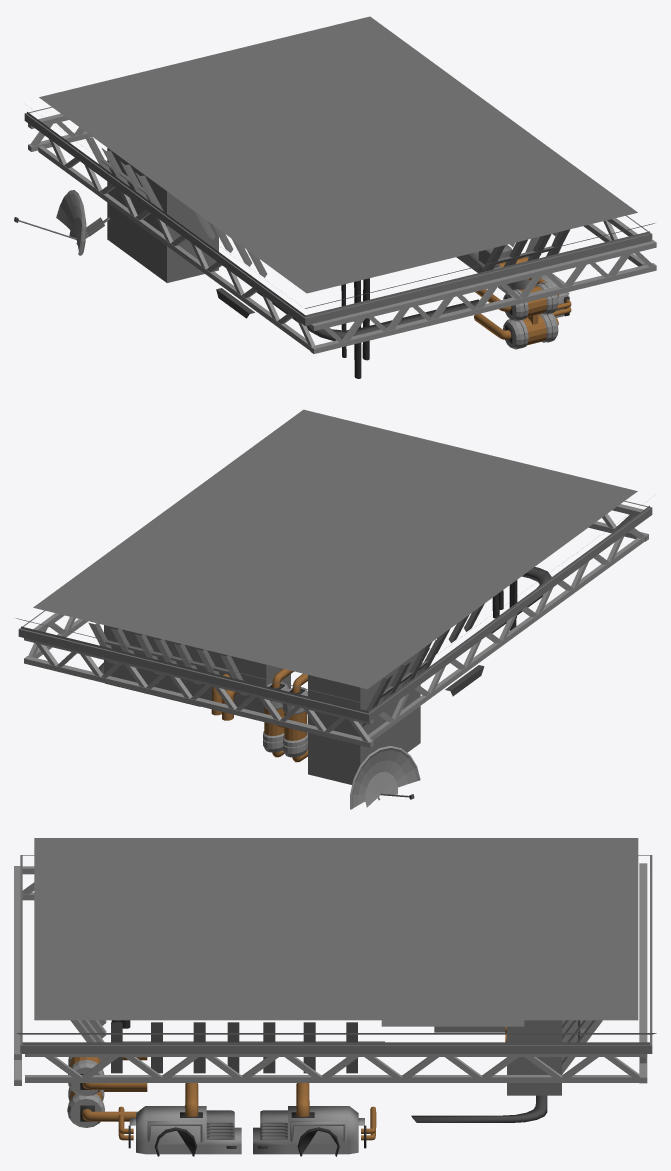
The model's file is platform-wide.glb.
3 renders of one model, top to bottom at view 1: azimuth 30°, elevation 25°; view 2: azimuth 150°, elevation 25°; view 3: azimuth 270°, elevation 25°, orthographic. The views are drawn at different scales.
Parts seen in each view (by area): view 1: QuaterniusDeck; view 2: QuaterniusDeck; view 3: QuaterniusDeck.
Part boxes in pixels (x1=…): QuaterniusDeck: x1=14, y1=16, x2=656, y2=378; QuaterniusDeck: x1=16, y1=409, x2=652, y2=809; QuaterniusDeck: x1=14, y1=838, x2=656, y2=1156.
Size of the model in its own units: 3.05 by 1.02 by 4.
